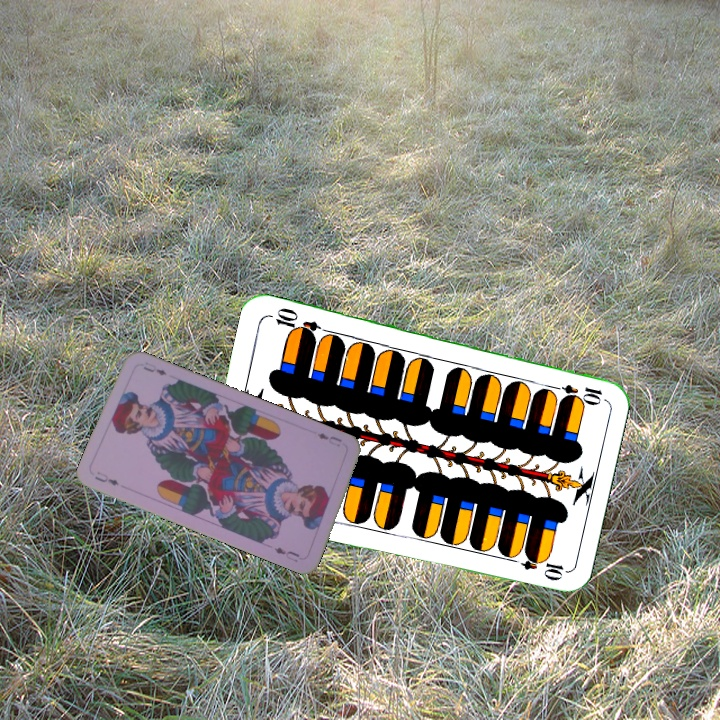E10: (546, 380, 605, 404)
EU: (90, 467, 122, 488), (313, 429, 344, 449)
